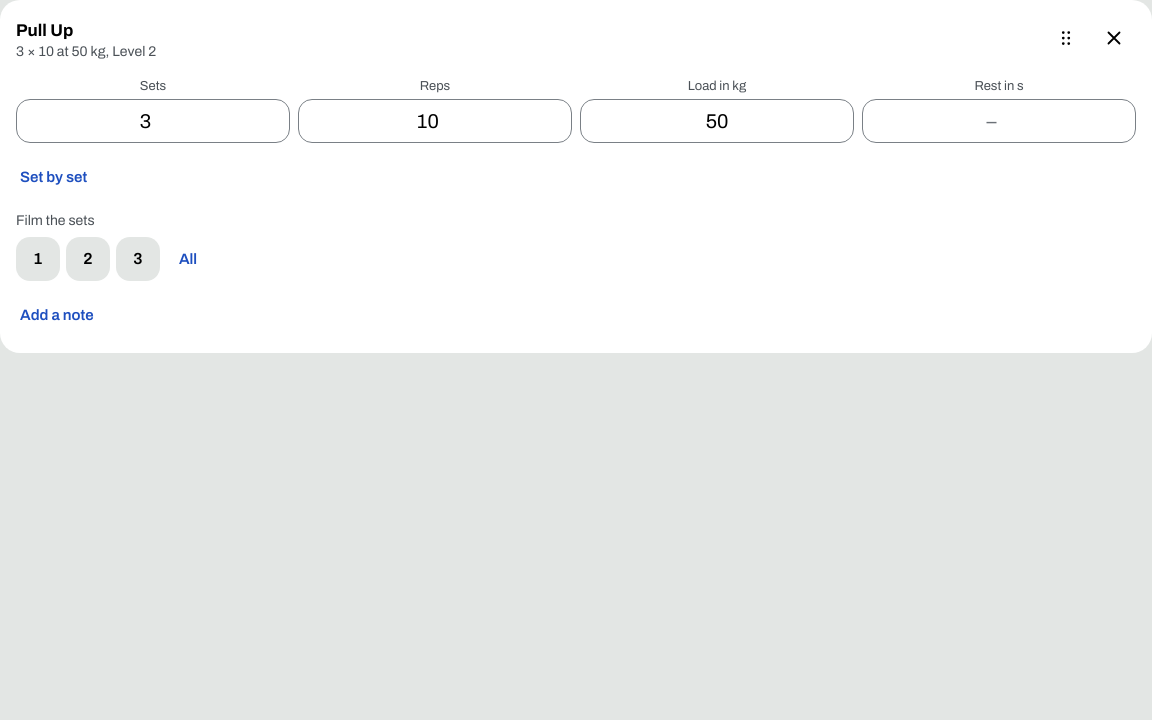
Test: ExerciseSlotRow › reveals notes textarea when "Add a note" is clicked
What coordinates should you click on to do the following:
click the button "Add a note"
I would click on:
 (57, 315)
Its box is [16,293,98,337].
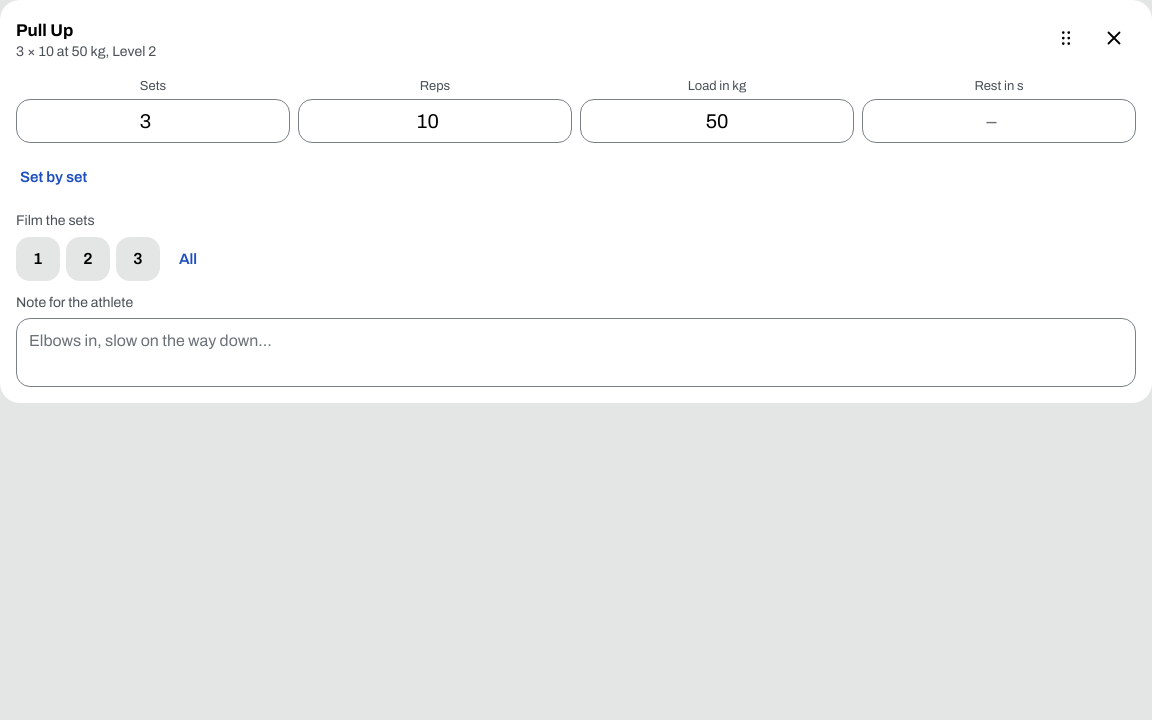
Check: the text box labelled "Note for the athlete" is shown, box [16,318,1136,387]
